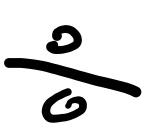div: (3, 26, 143, 124)
